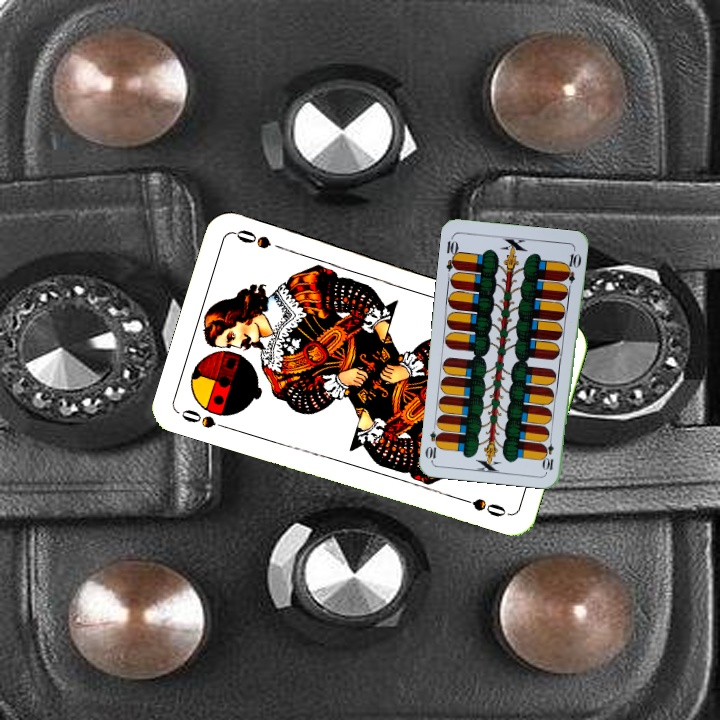E10: (442, 233, 462, 273), (541, 432, 556, 473)
SO: (175, 405, 233, 433)
